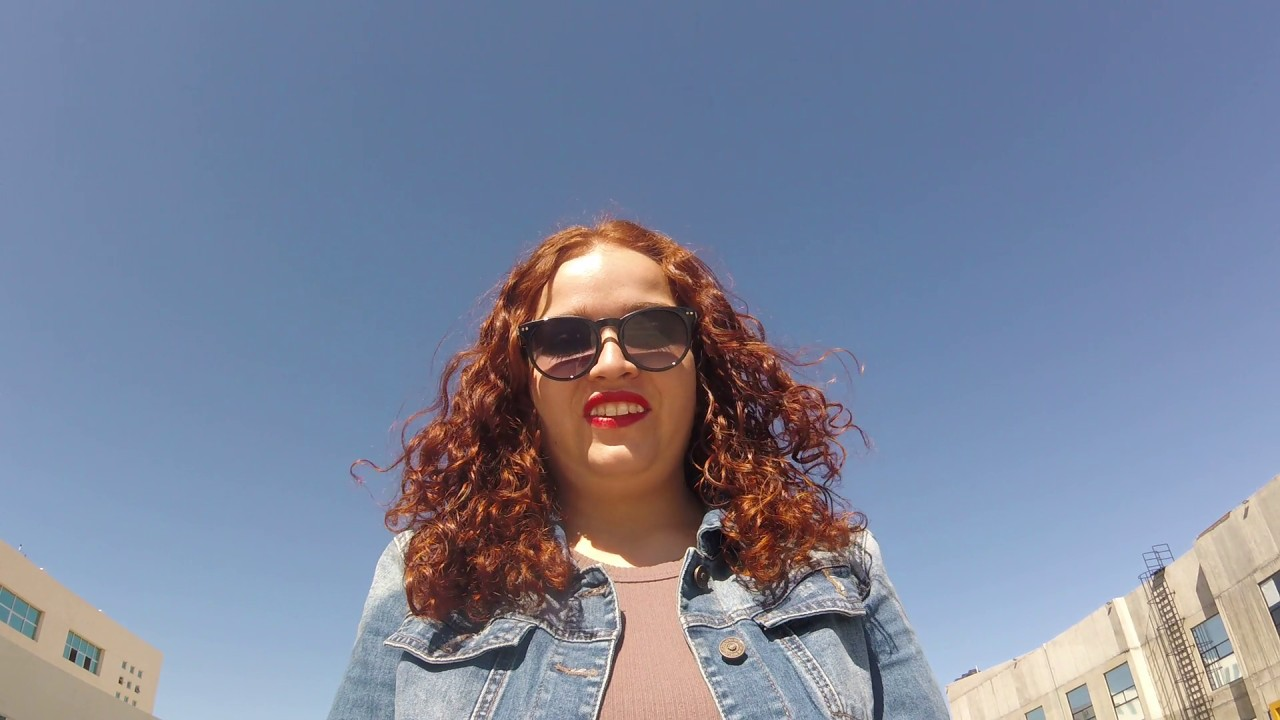Without Helmet: (463, 206, 738, 520)
